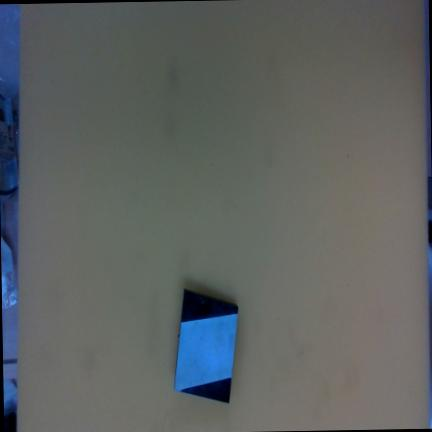tile: (172, 291, 239, 404)
